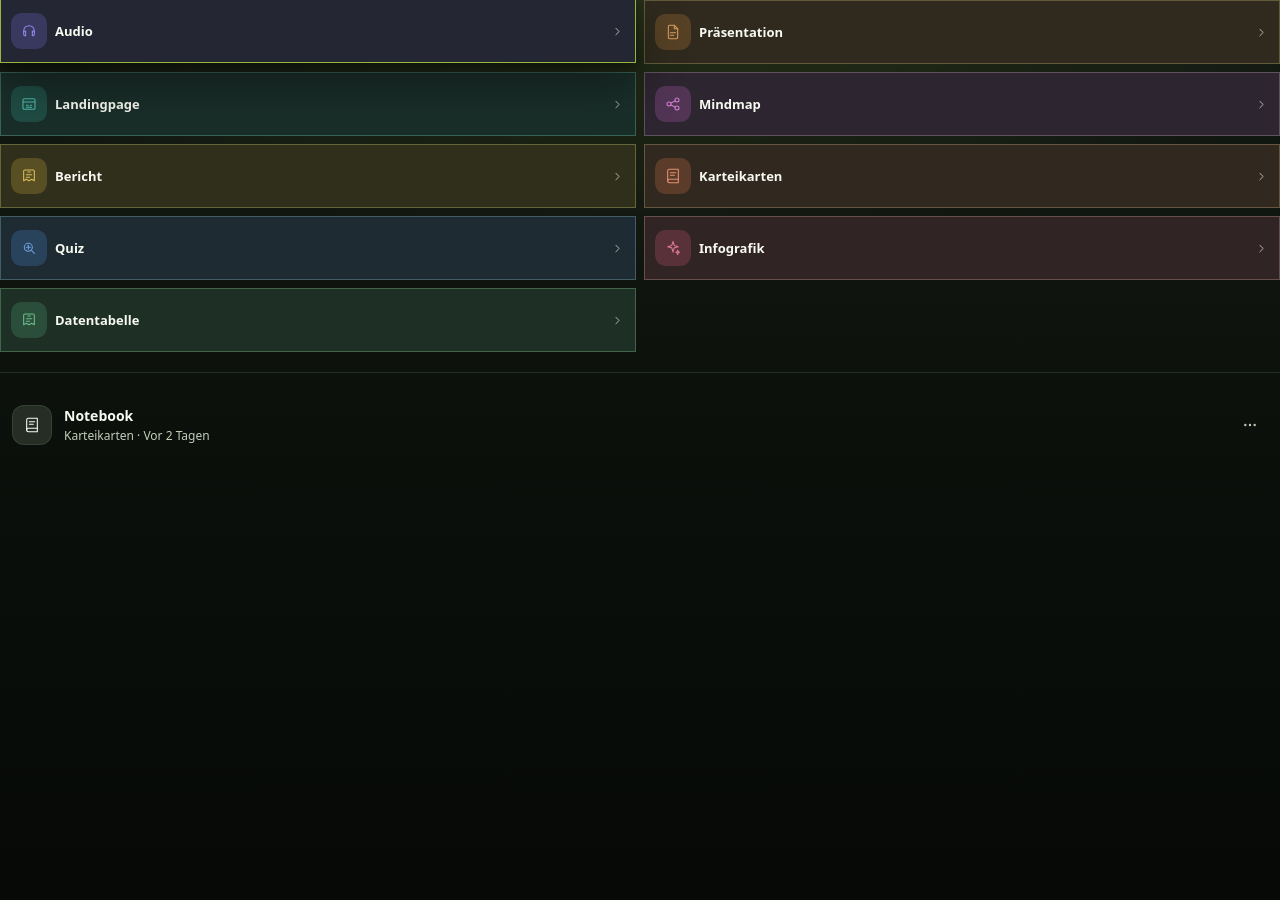
Test: StudioPanel › Karteikarten sind interaktiv: umdrehen, navigieren, als gewusst markieren
Click the text "Notebook". click: (99, 416)
box: [64,406,133,425]
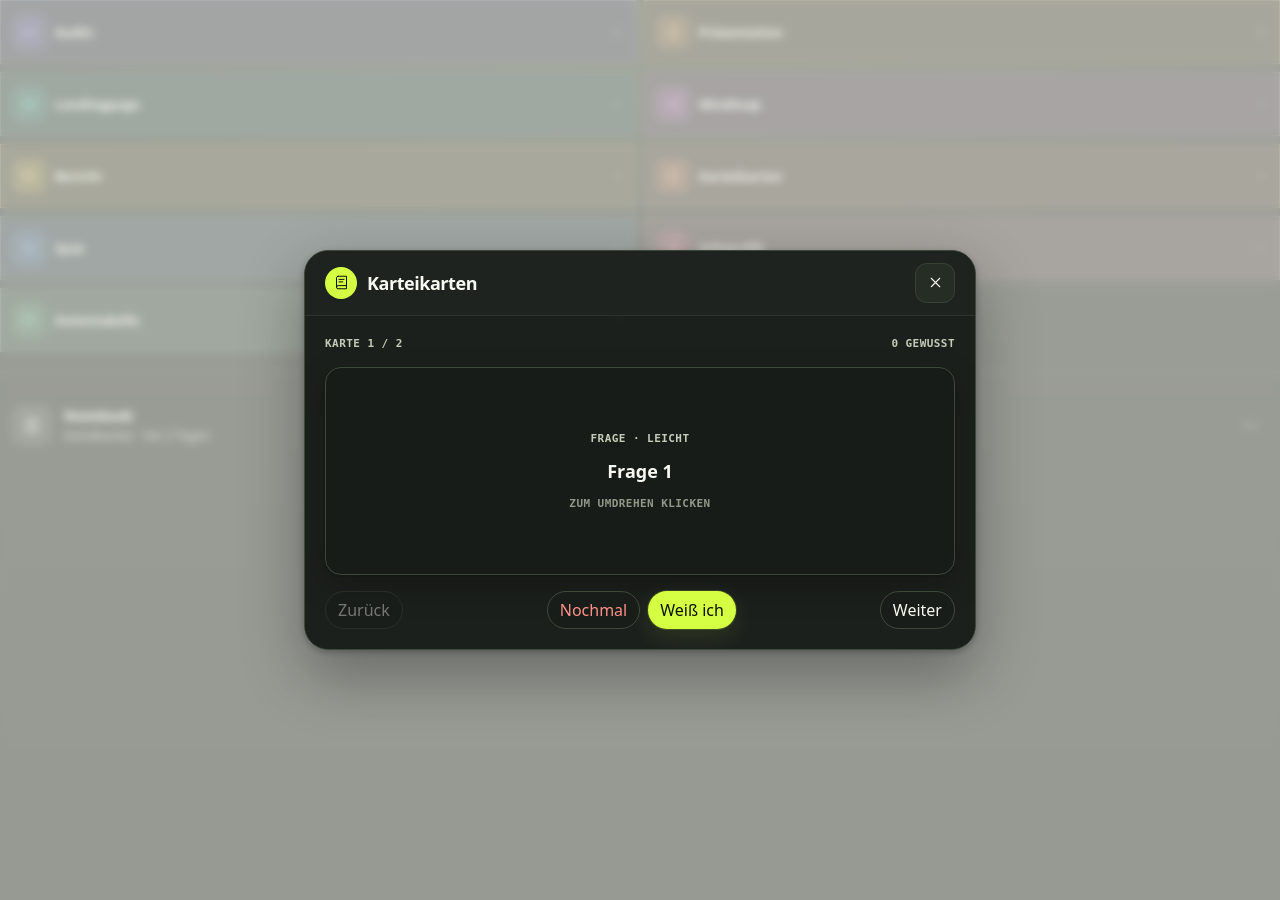
Result: the text "Frage 1" is shown at [607,459,673,484]
Result: the text "Karte 1 / 2" is shown at [325,336,403,351]
Click the button with aria-label "frage, zum umdrehen klicken". click: (640, 471)
box: [325,367,955,575]
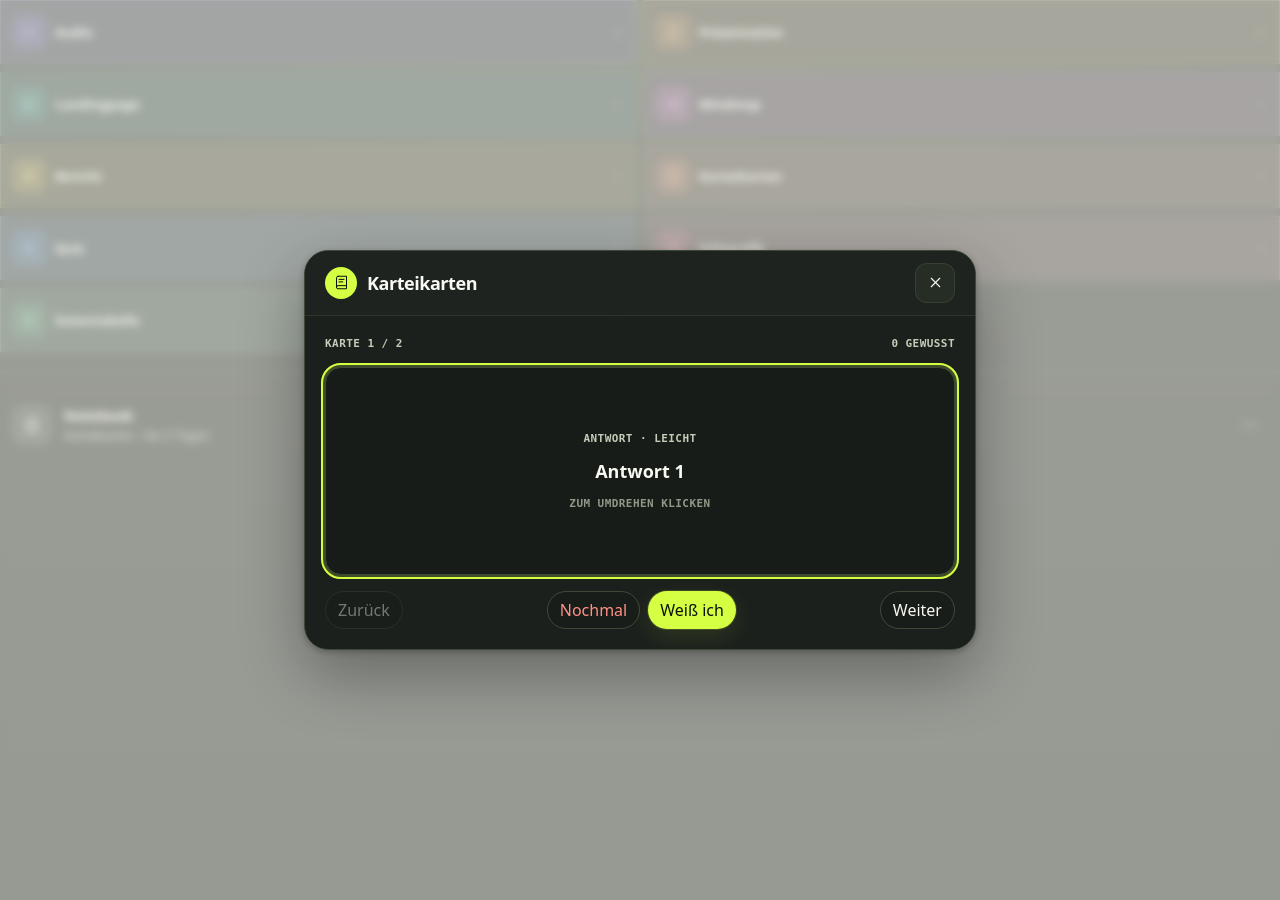
Result: the text "Antwort 1" is shown at [595,459,685,484]
Click the button "Weiß ich". click: (692, 610)
box: [648,591,736,629]
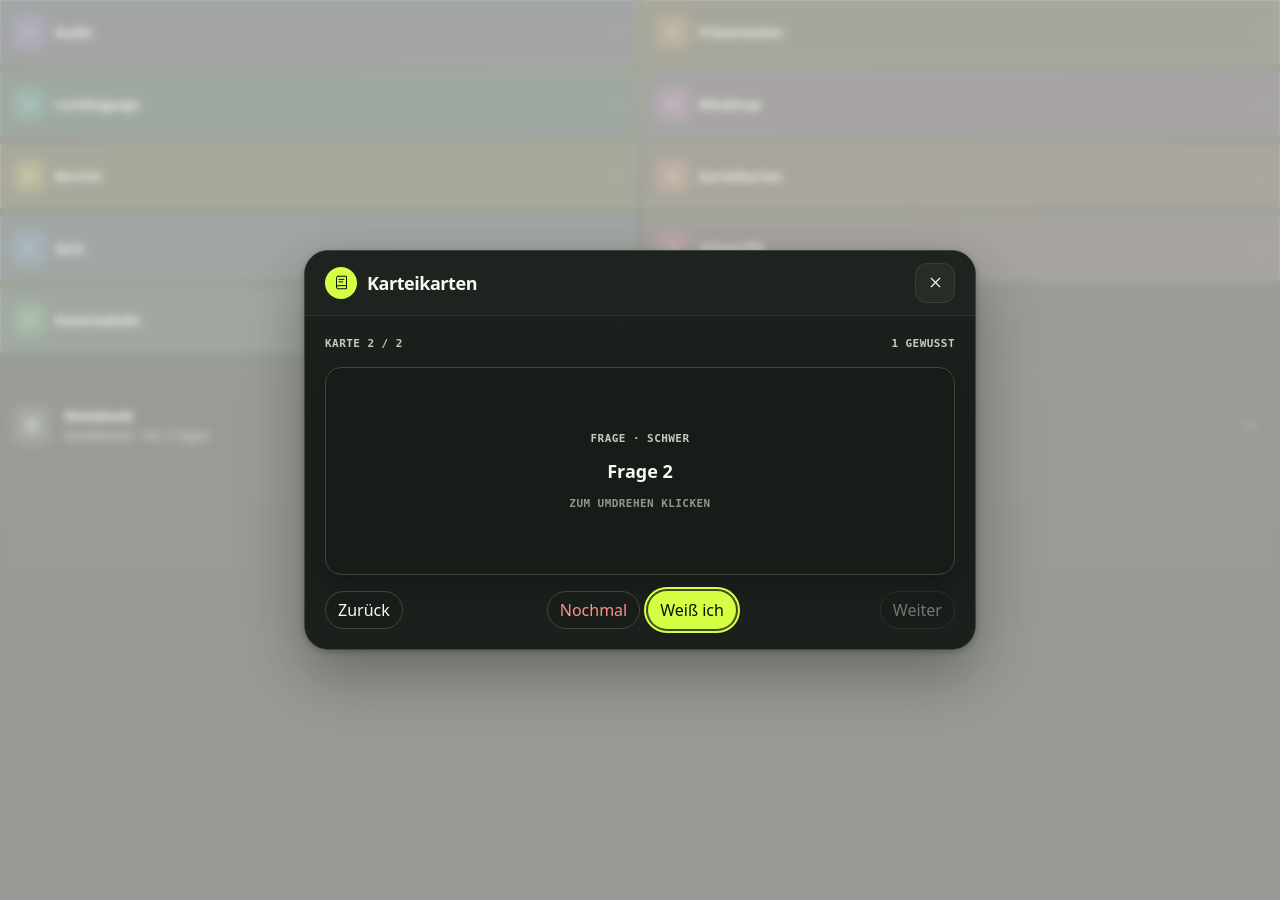
Result: the text "Karte 2 / 2" is shown at [325,336,403,351]
Result: the text "1 gewusst" is shown at [891,336,955,351]
Click the button "Zurück". click: (364, 610)
box: [325,591,403,629]
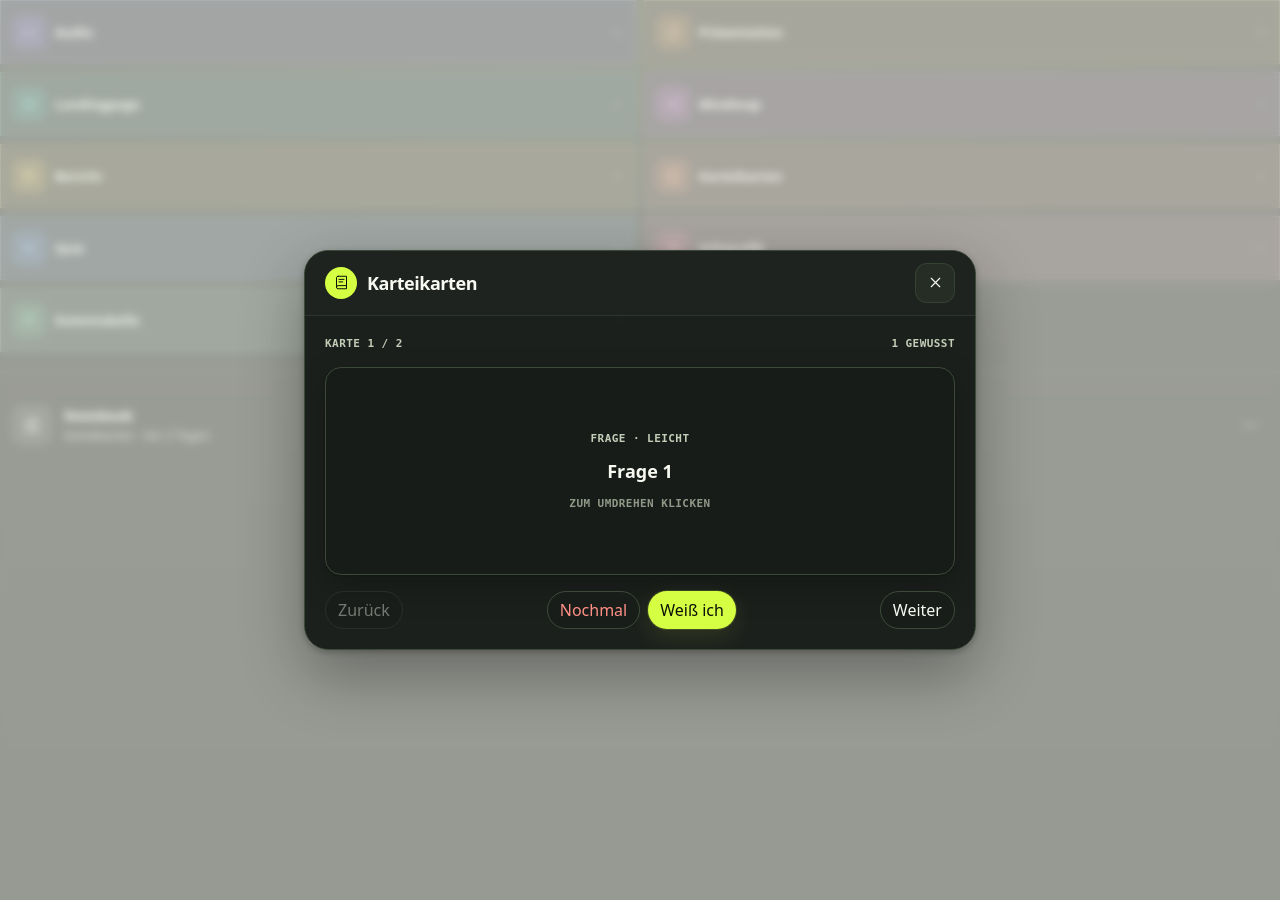
Result: the text "Karte 1 / 2" is shown at [325,336,403,351]
Result: the text "Frage 1" is shown at [607,459,673,484]
